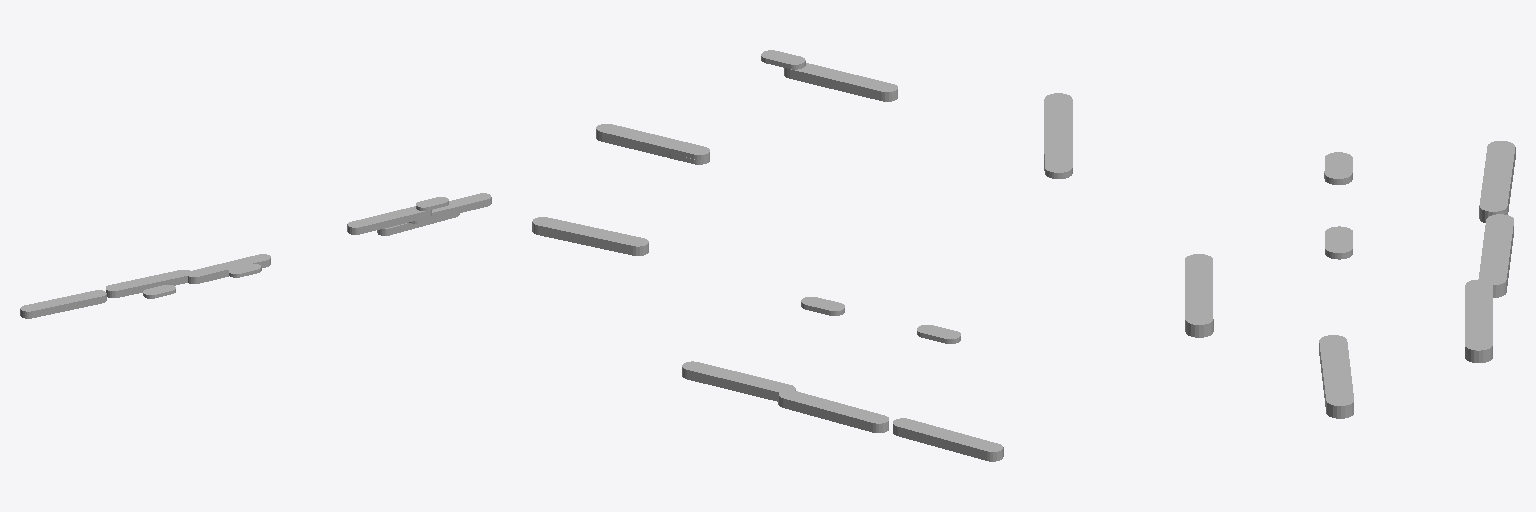
The robot description file, URDF, robot "armTest1":
<robot
  name="armTest1">
  <link
    name="arm">
    <inertial>
      <origin
        xyz="0.039191 0.016306 0.025063"
        rpy="0 0 0" />
      <mass
        value="0.0012711" />
      <inertia
        ixx="5.9512E-10"
        ixy="-1.3783E-12"
        ixz="9.9336E-09"
        iyy="7.979E-07"
        iyz="-5.1504E-11"
        izz="7.9817E-07" />
    </inertial>
    <visual>
      <origin
        xyz="0 0 0"
        rpy="0 0 0" />
      <geometry>
        <mesh
          filename="package://armTest1/meshes/arm.STL" />
      </geometry>
      <material
        name="">
        <color
          rgba="0.75294 0.75294 0.75294 1" />
      </material>
    </visual>
    <collision>
      <origin
        xyz="0 0 0"
        rpy="0 0 0" />
      <geometry>
        <mesh
          filename="package://armTest1/meshes/arm.STL" />
      </geometry>
    </collision>
  </link>
  <link
    name="link1">
    <inertial>
      <origin
        xyz="0.0127 0.00127 0"
        rpy="0 0 0" />
      <mass
        value="0.00037922" />
      <inertia
        ixx="0"
        ixy="0"
        ixz="0"
        iyy="0"
        iyz="0"
        izz="0" />
    </inertial>
    <visual>
      <origin
        xyz="0 0 0"
        rpy="0 0 0" />
      <geometry>
        <mesh
          filename="package://armTest1/meshes/link1.STL" />
      </geometry>
      <material
        name="">
        <color
          rgba="0.75294 0.75294 0.75294 1" />
      </material>
    </visual>
    <collision>
      <origin
        xyz="0 0 0"
        rpy="0 0 0" />
      <geometry>
        <mesh
          filename="package://armTest1/meshes/link1.STL" />
      </geometry>
    </collision>
  </link>
  <joint
    name="joint1"
    type="fixed">
    <origin
      xyz="-0.0052533 -0.025334 0.014836"
      rpy="1.5708 0 0" />
    <parent
      link="arm" />
    <child
      link="link1" />
    <axis
      xyz="0 1 0" />
  </joint>
  <link
    name="link2">
    <inertial>
      <origin
        xyz="0.003175 0.000635 0"
        rpy="0 0 0" />
      <mass
        value="6.6708E-05" />
      <inertia
        ixx="0"
        ixy="0"
        ixz="0"
        iyy="0"
        iyz="0"
        izz="0" />
    </inertial>
    <visual>
      <origin
        xyz="0 0 0"
        rpy="0 0 0" />
      <geometry>
        <mesh
          filename="package://armTest1/meshes/link2.STL" />
      </geometry>
      <material
        name="">
        <color
          rgba="0.75294 0.75294 0.75294 1" />
      </material>
    </visual>
    <collision>
      <origin
        xyz="0 0 0"
        rpy="0 0 0" />
      <geometry>
        <mesh
          filename="package://armTest1/meshes/link2.STL" />
      </geometry>
    </collision>
  </link>
  <joint
    name="joint2"
    type="revolute">
    <origin
      xyz="0.020147 -0.025334 0.017376"
      rpy="1.5708 2.1878E-19 0.0035731" />
    <parent
      link="arm" />
    <child
      link="link2" />
    <axis
      xyz="0 1 0" />
    <limit
      effort="0"
      velocity="0" />
  </joint>
  <link
    name="link3">
    <inertial>
      <origin
        xyz="0.0127 0.00127 3.4694E-18"
        rpy="0 0 0" />
      <mass
        value="0.00037922" />
      <inertia
        ixx="0"
        ixy="0"
        ixz="0"
        iyy="0"
        iyz="0"
        izz="0" />
    </inertial>
    <visual>
      <origin
        xyz="0 0 0"
        rpy="0 0 0" />
      <geometry>
        <mesh
          filename="package://armTest1/meshes/link3.STL" />
      </geometry>
      <material
        name="">
        <color
          rgba="0.75294 0.75294 0.75294 1" />
      </material>
    </visual>
    <collision>
      <origin
        xyz="0 0 0"
        rpy="0 0 0" />
      <geometry>
        <mesh
          filename="package://armTest1/meshes/link3.STL" />
      </geometry>
    </collision>
  </link>
  <joint
    name="joint3"
    type="revolute">
    <origin
      xyz="0.026497 -0.025311 0.014836"
      rpy="1.5708 2.1878E-19 0.0035731" />
    <parent
      link="arm" />
    <child
      link="link3" />
    <axis
      xyz="0 1 0" />
    <limit
      effort="0"
      velocity="0" />
  </joint>
  <link
    name="link4">
    <inertial>
      <origin
        xyz="0.003175 0.000635 3.4694E-18"
        rpy="0 0 0" />
      <mass
        value="6.6708E-05" />
      <inertia
        ixx="0"
        ixy="0"
        ixz="0"
        iyy="0"
        iyz="0"
        izz="0" />
    </inertial>
    <visual>
      <origin
        xyz="0 0 0"
        rpy="0 0 0" />
      <geometry>
        <mesh
          filename="package://armTest1/meshes/link4.STL" />
      </geometry>
      <material
        name="">
        <color
          rgba="0.75294 0.75294 0.75294 1" />
      </material>
    </visual>
    <collision>
      <origin
        xyz="0 0 0"
        rpy="0 0 0" />
      <geometry>
        <mesh
          filename="package://armTest1/meshes/link4.STL" />
      </geometry>
    </collision>
  </link>
  <joint
    name="joint4"
    type="revolute">
    <origin
      xyz="0.051896 -0.025221 0.017376"
      rpy="1.5708 2.1878E-19 0.0035731" />
    <parent
      link="arm" />
    <child
      link="link4" />
    <axis
      xyz="0 1 0" />
    <limit
      effort="0"
      velocity="0" />
  </joint>
  <link
    name="link5">
    <inertial>
      <origin
        xyz="0.0127 0.00127 0"
        rpy="0 0 0" />
      <mass
        value="0.00037922" />
      <inertia
        ixx="0"
        ixy="0"
        ixz="0"
        iyy="0"
        iyz="0"
        izz="0" />
    </inertial>
    <visual>
      <origin
        xyz="0 0 0"
        rpy="0 0 0" />
      <geometry>
        <mesh
          filename="package://armTest1/meshes/link5.STL" />
      </geometry>
      <material
        name="">
        <color
          rgba="0.75294 0.75294 0.75294 1" />
      </material>
    </visual>
    <collision>
      <origin
        xyz="0 0 0"
        rpy="0 0 0" />
      <geometry>
        <mesh
          filename="package://armTest1/meshes/link5.STL" />
      </geometry>
    </collision>
  </link>
  <joint
    name="joint5"
    type="revolute">
    <origin
      xyz="0.058246 -0.025198 0.014836"
      rpy="1.5708 3.2748E-18 0.053509" />
    <parent
      link="arm" />
    <child
      link="link5" />
    <axis
      xyz="0 1 0" />
    <limit
      effort="0"
      velocity="0" />
  </joint>
</robot>

--- What the picture shows (computed from the rendered views, not written in the file) ---
3 views of the same robot in one strip: view 1: azimuth 30°, elevation 25°; view 2: azimuth 150°, elevation 25°; view 3: azimuth 270°, elevation 25° (orthographic).
Robot: armTest1 — 6 links, 5 joints (4 revolute, 1 fixed); root link arm; default pose: all joints at 0.
Links seen in each view (by area): view 1: arm, link1, link3; view 2: arm, link5, link1, link3, link2; view 3: arm, link5, link3, link1, link2.
Link boxes in pixels (x1=…): arm: x1=20, y1=254, x2=270, y2=318; link1: x1=347, y1=206, x2=431, y2=234; link3: x1=409, y1=193, x2=491, y2=223; arm: x1=682, y1=297, x2=1003, y2=461; link5: x1=532, y1=217, x2=648, y2=255; link1: x1=784, y1=63, x2=897, y2=101; link3: x1=596, y1=124, x2=709, y2=163; link2: x1=761, y1=50, x2=805, y2=69; arm: x1=1324, y1=141, x2=1515, y2=362; link5: x1=1319, y1=335, x2=1353, y2=418; link3: x1=1185, y1=254, x2=1213, y2=337; link1: x1=1044, y1=93, x2=1072, y2=170; link2: x1=1044, y1=146, x2=1072, y2=178.
Size in the robot's own frame: 0.1453 by 0.0851 by 0.0483 metres.
Meshes: 6 distinct files referenced, 6 mesh visuals loaded (6 binary STL).